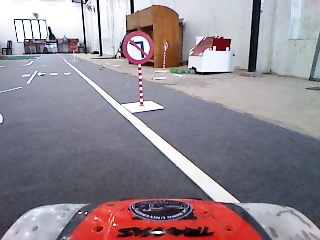ban: (119, 28, 156, 67)
